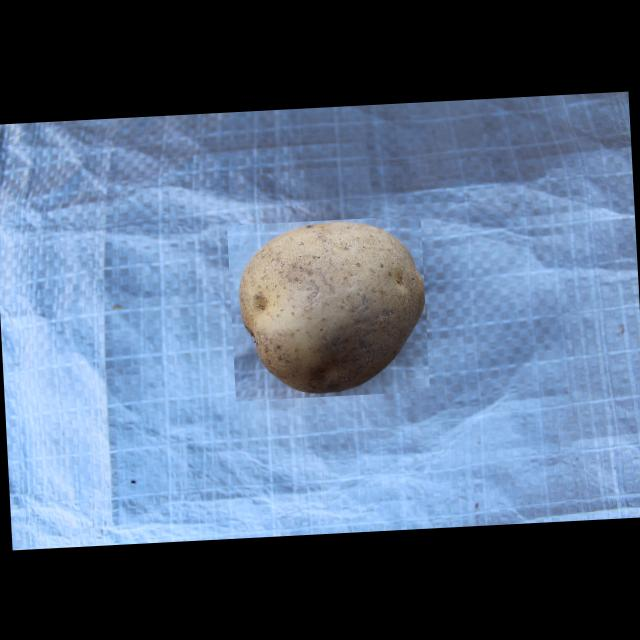Diseased-fungal potato: (226, 214, 429, 400)
